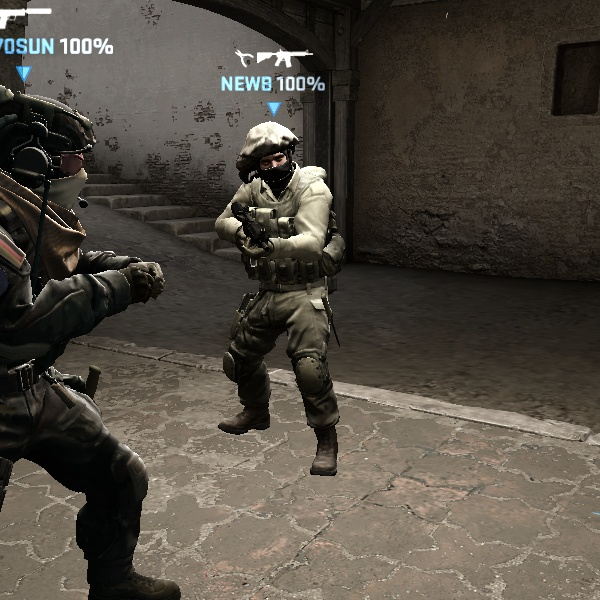ct_body: (186, 122, 375, 458)
ct_head: (236, 127, 309, 197)
